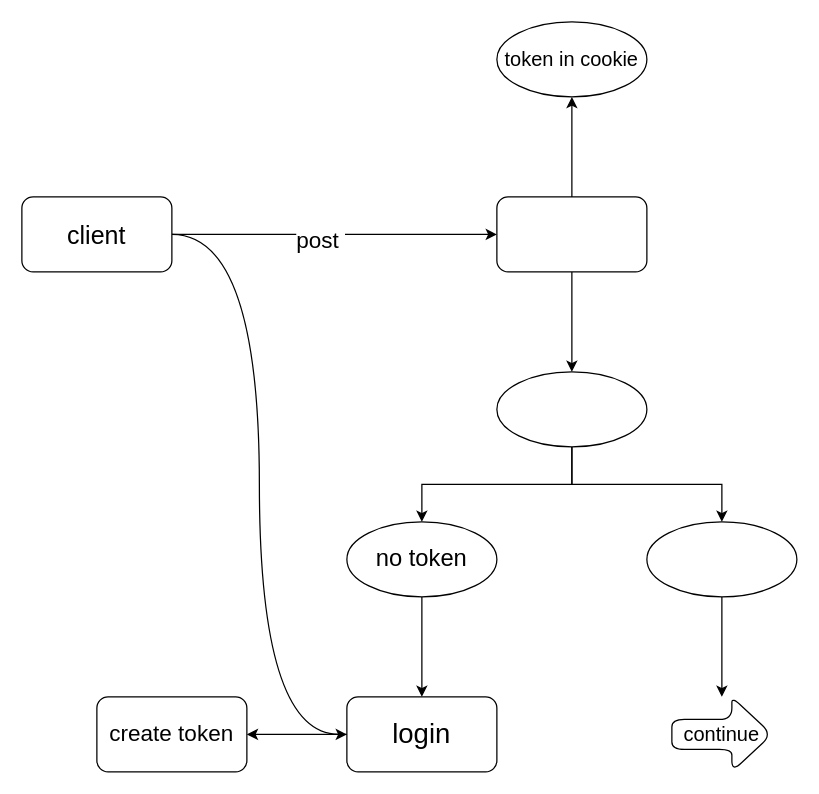
This 819x794 diagram has some shape labels left out. The centre of each missing label's shape, as x and y in pixels:
"if token" goes at (721,559).
"middleware" goes at (571,409).
"server" goes at (571,234).
